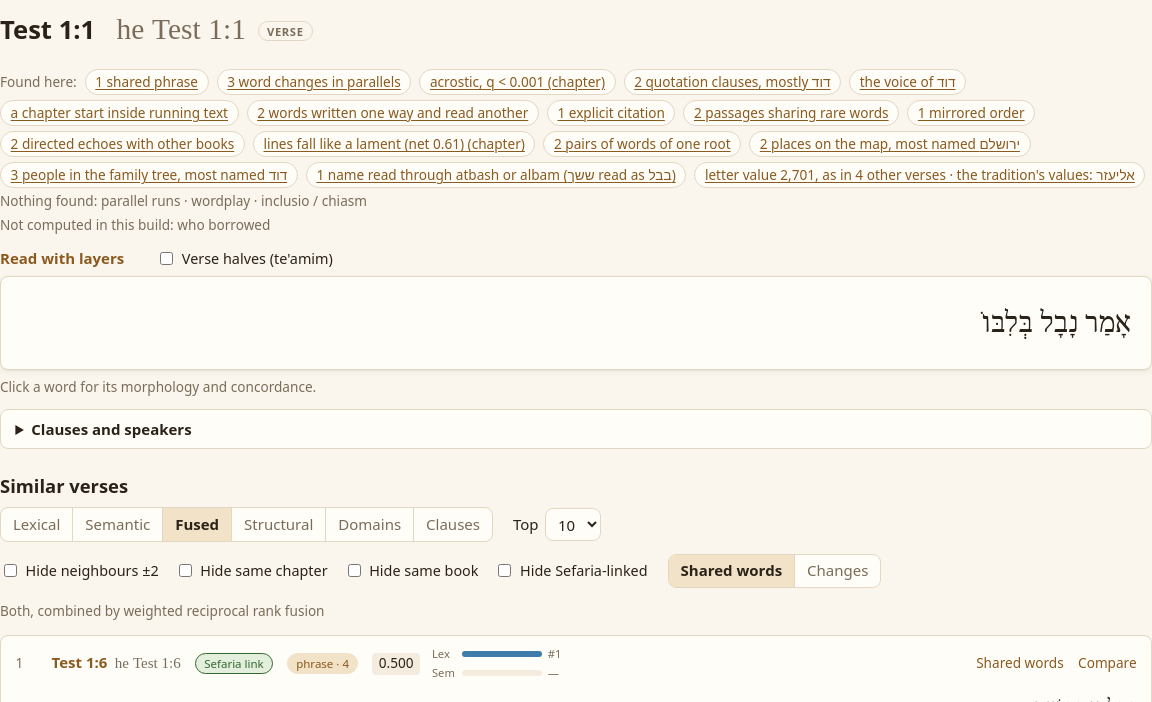
Test: UnitPage › keeps mode in the URL
The width and height of the screenshot is (1152, 702).
Expected: the link "Test 1:6he Test 1:6" is shown, [52, 651, 181, 676]
What coordinates should you click on to do the following:
click the radio button labelled "Lexical"
I would click on:
 (37, 525)
Its box is [1, 508, 72, 541].
(page scrolled)
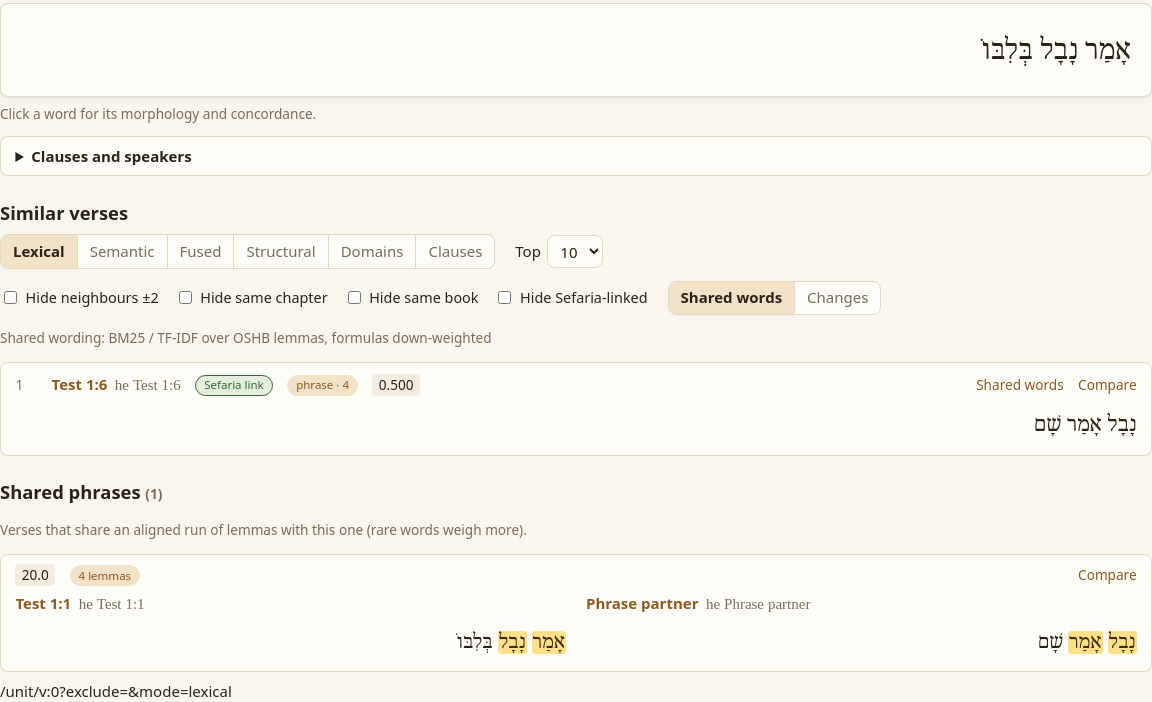
Now the text with test id "loc" reads "/unit/v:0?exclude=&mode=lexical", box [0, 681, 232, 701]
